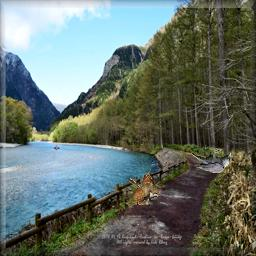Crow: (191, 148, 231, 173)
Cuckoo: (122, 174, 161, 205)
